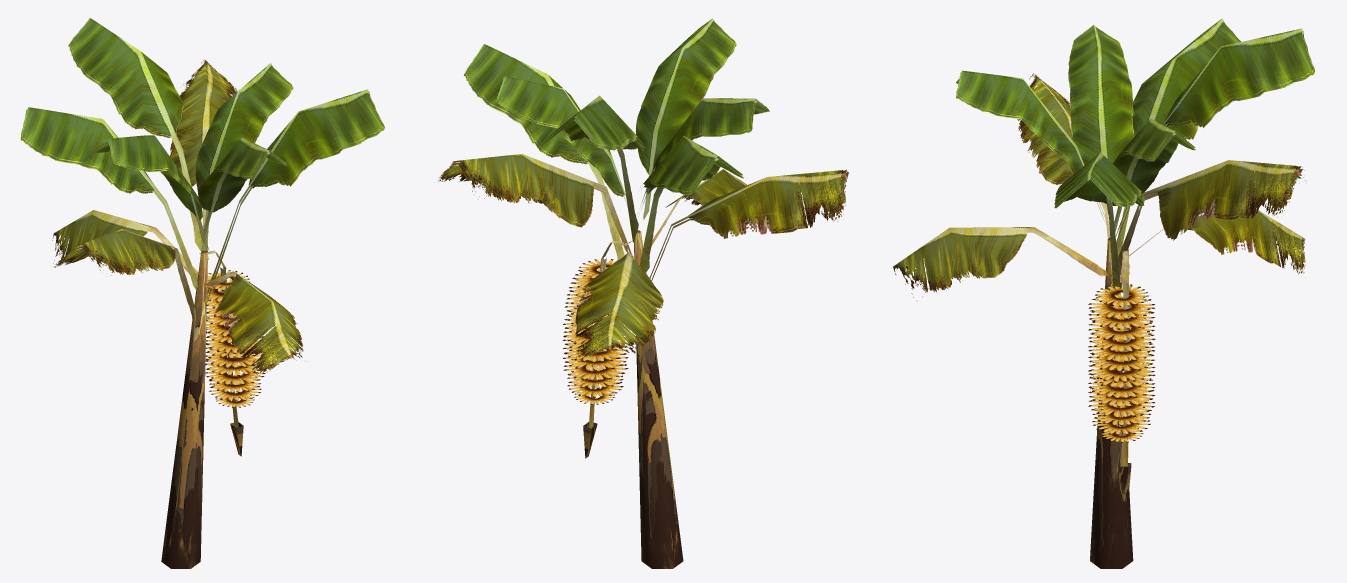
Rendered from banana_0.glb.
3 renders of one model, left to right at view 1: azimuth 30°, elevation 25°; view 2: azimuth 150°, elevation 25°; view 3: azimuth 270°, elevation 25°, orthographic. The views are drawn at different scales.
Parts seen in each view (by area): view 1: banana_0; view 2: banana_0; view 3: banana_0.
Part boxes in pixels (left/top/right/bottom): banana_0: left=20, top=18, right=384, bottom=568; banana_0: left=438, top=18, right=848, bottom=568; banana_0: left=893, top=18, right=1314, bottom=568.
Bounding box in the file's own units: 4.62 × 6.06 × 4.57.
Materials: 1 (1 with a texture image).
